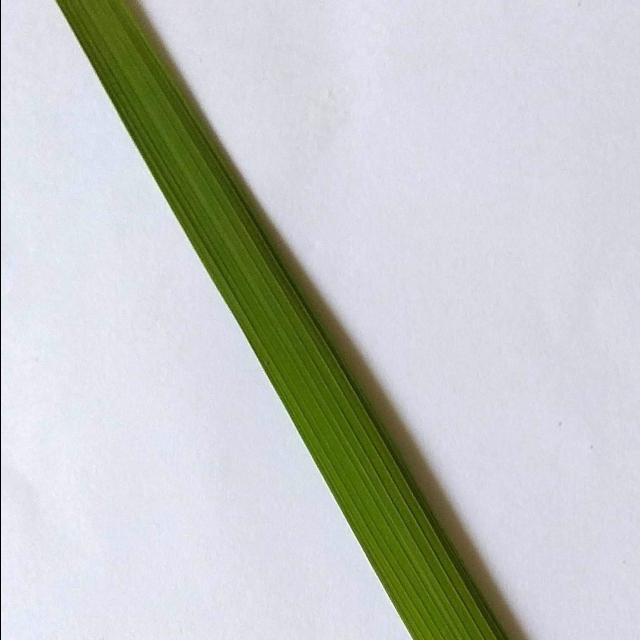healthy: (51, 0, 542, 640)
